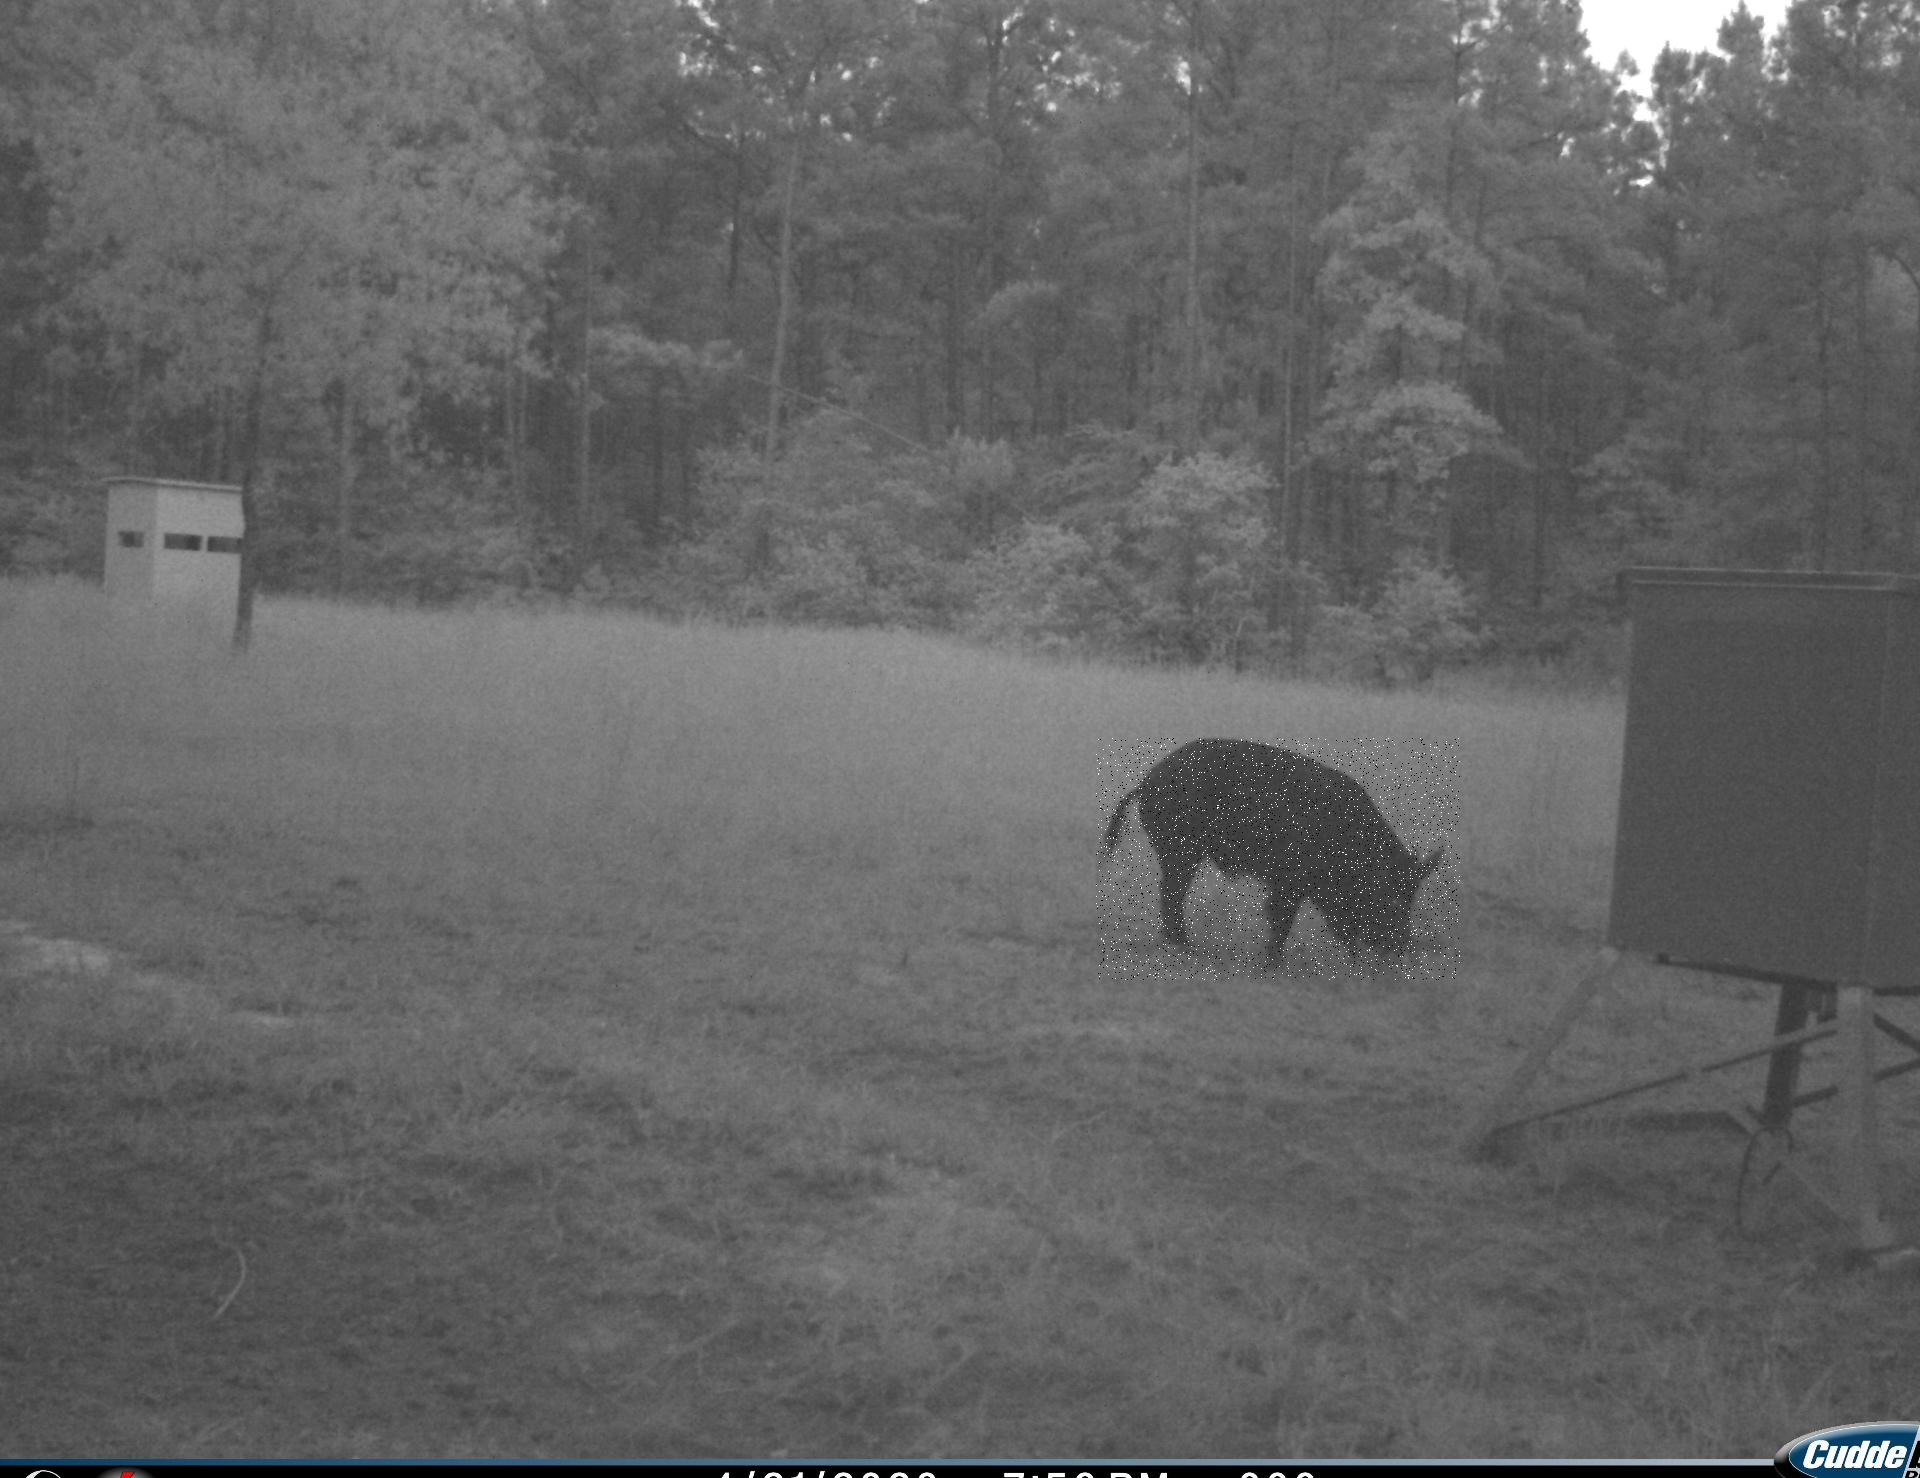Hog: (1096, 737, 1461, 980)
